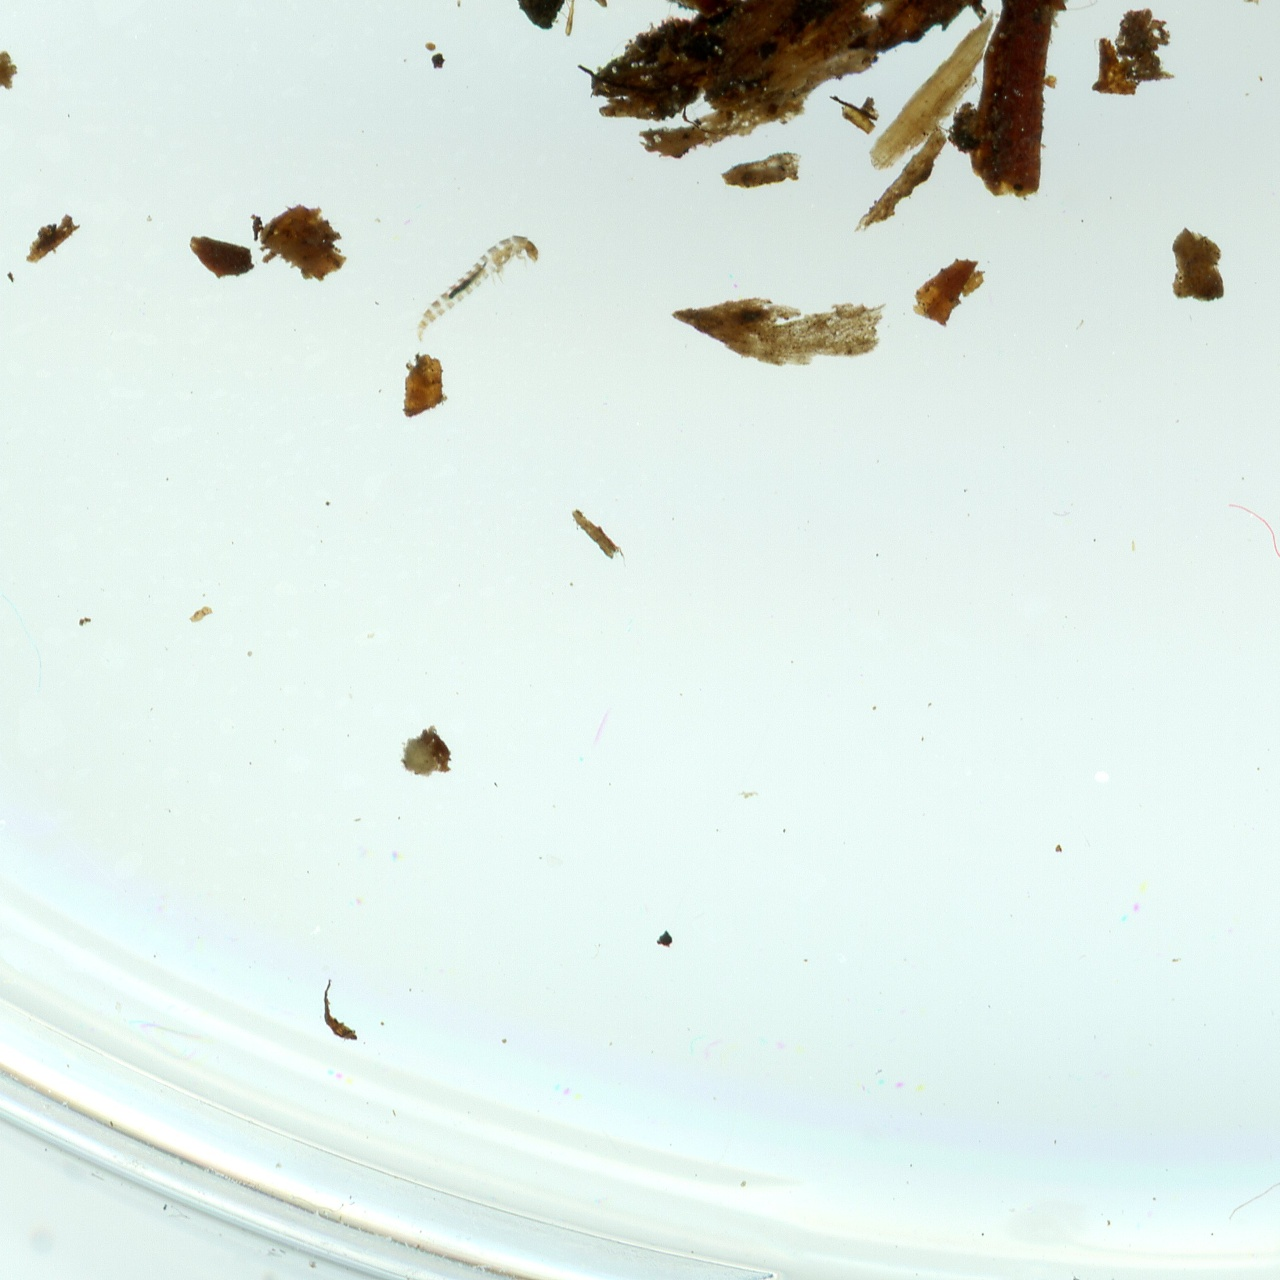arthropod: (390, 216, 551, 354)
